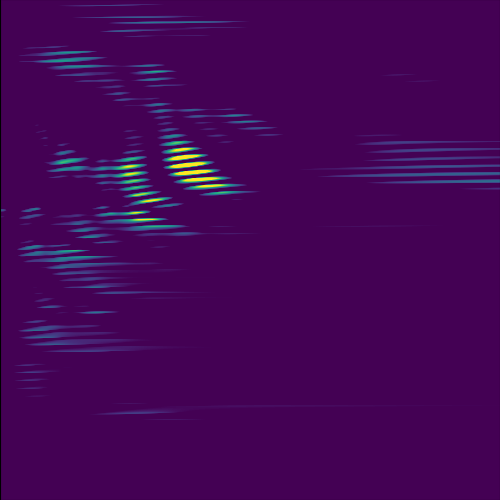semblance: (157, 138, 239, 196)
